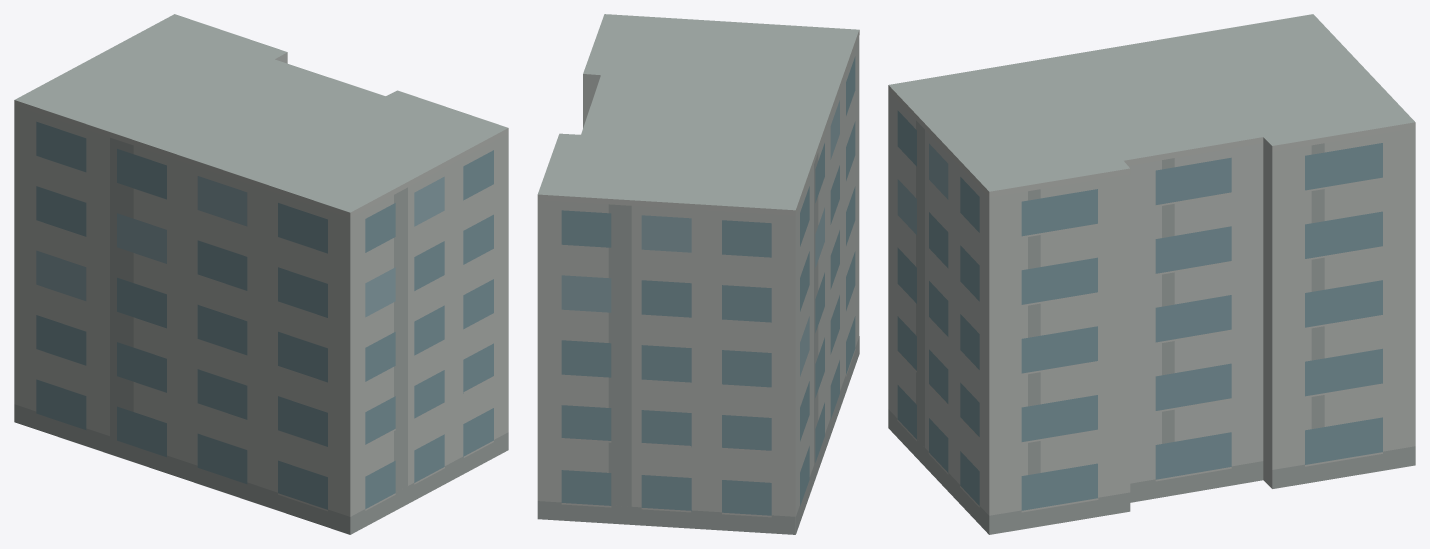
File: survey-upis-33001566.glb
3 renders of one model, left to right at view 1: azimuth 30°, elevation 25°; view 2: azimuth 150°, elevation 25°; view 3: azimuth 270°, elevation 25°, orthographic. The views are drawn at different scales.
Visible parts, largest first — view 1: survey-upis-33001566.tmp; view 2: survey-upis-33001566.tmp; view 3: survey-upis-33001566.tmp.
Part boxes in pixels (x1,y1,x2,y2): survey-upis-33001566.tmp: (14, 14, 508, 534); survey-upis-33001566.tmp: (537, 14, 859, 534); survey-upis-33001566.tmp: (888, 14, 1415, 534).
Bounding box in the file's own units: 15.78 × 14.2 × 19.78.
